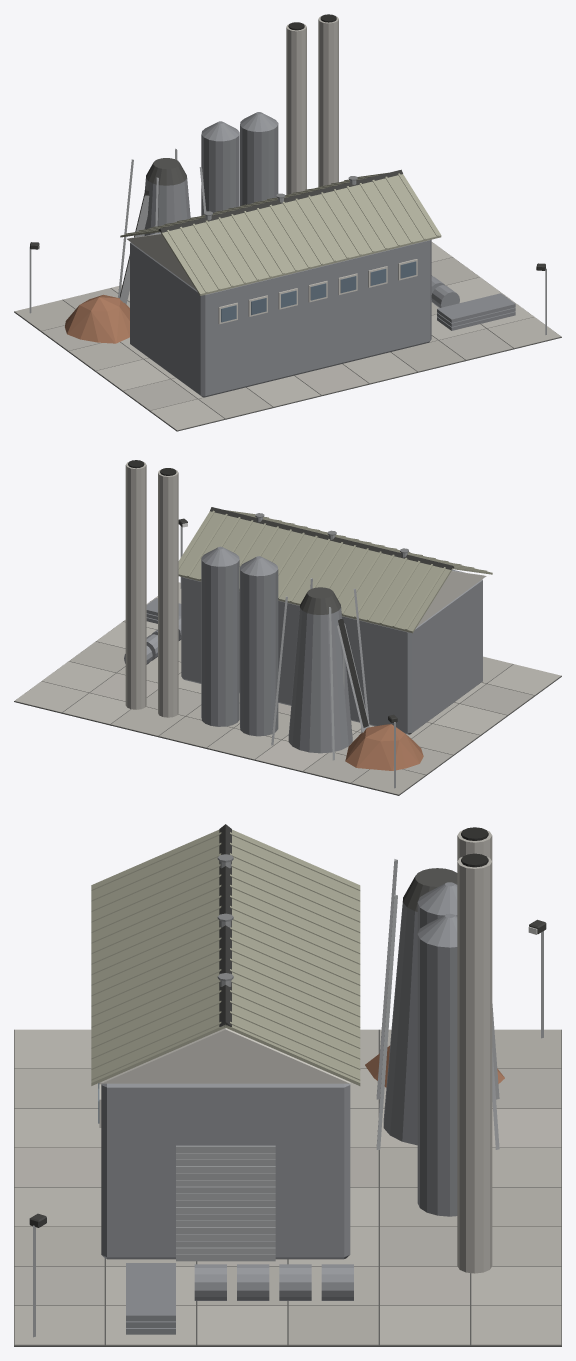
Rendered from b_steelmill.glb.
The picture shows the model from 3 angles, top to bottom: view 1: azimuth 30°, elevation 25°; view 2: azimuth 150°, elevation 25°; view 3: azimuth 270°, elevation 25°; orthographic projection. The views are drawn at different scales.
Visible parts, largest first — view 1: hull; view 2: hull; view 3: hull.
Part boxes in pixels (x1,y1,x2,y2): hull: [14, 14, 561, 431]; hull: [14, 460, 561, 795]; hull: [14, 824, 561, 1346].
Size of the model in its own units: 30 by 18.11 by 22.
